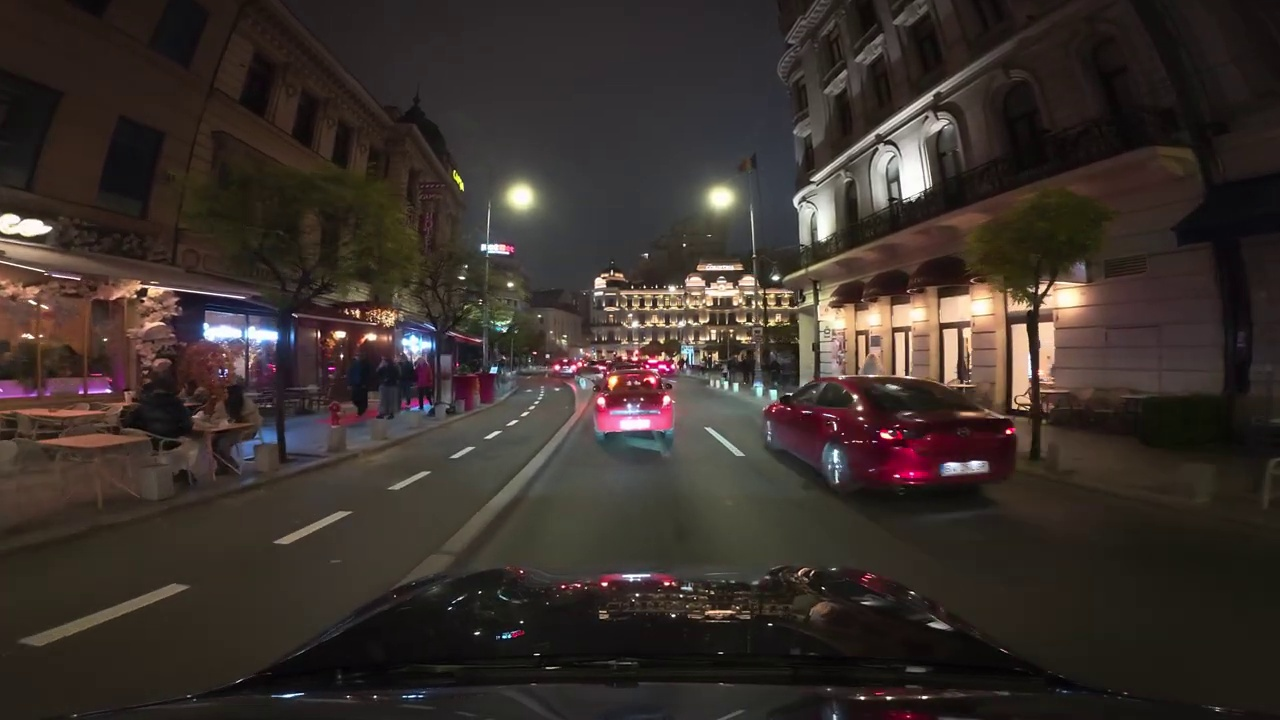acesa: (502, 182, 536, 213), (705, 184, 737, 214), (450, 170, 468, 192)
